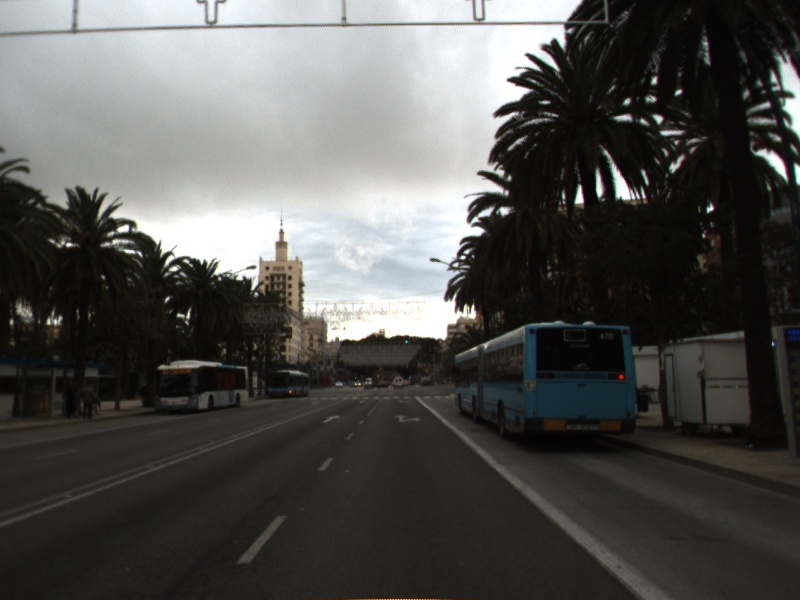STRAIGHT: (321, 413, 343, 425)
STRAIGHT_RIGHT: (391, 413, 423, 424)
